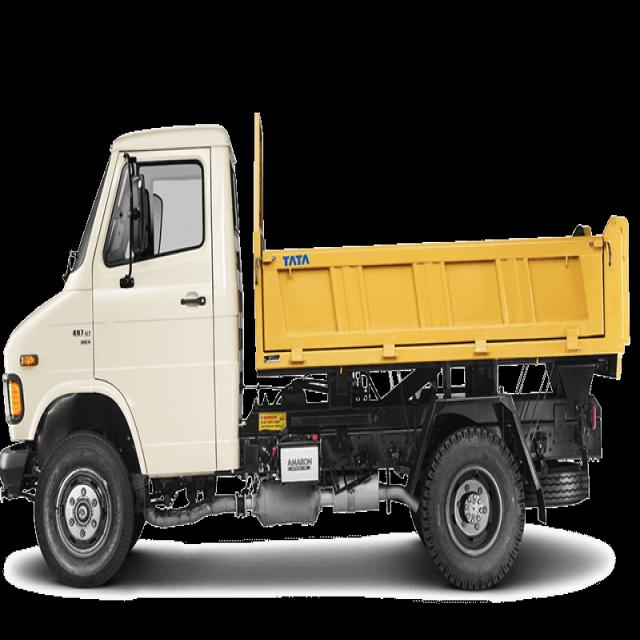dump_truck: (2, 102, 634, 596)
